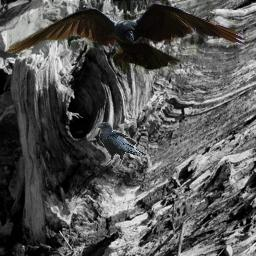Crow: (7, 1, 246, 84), (96, 122, 146, 167)
